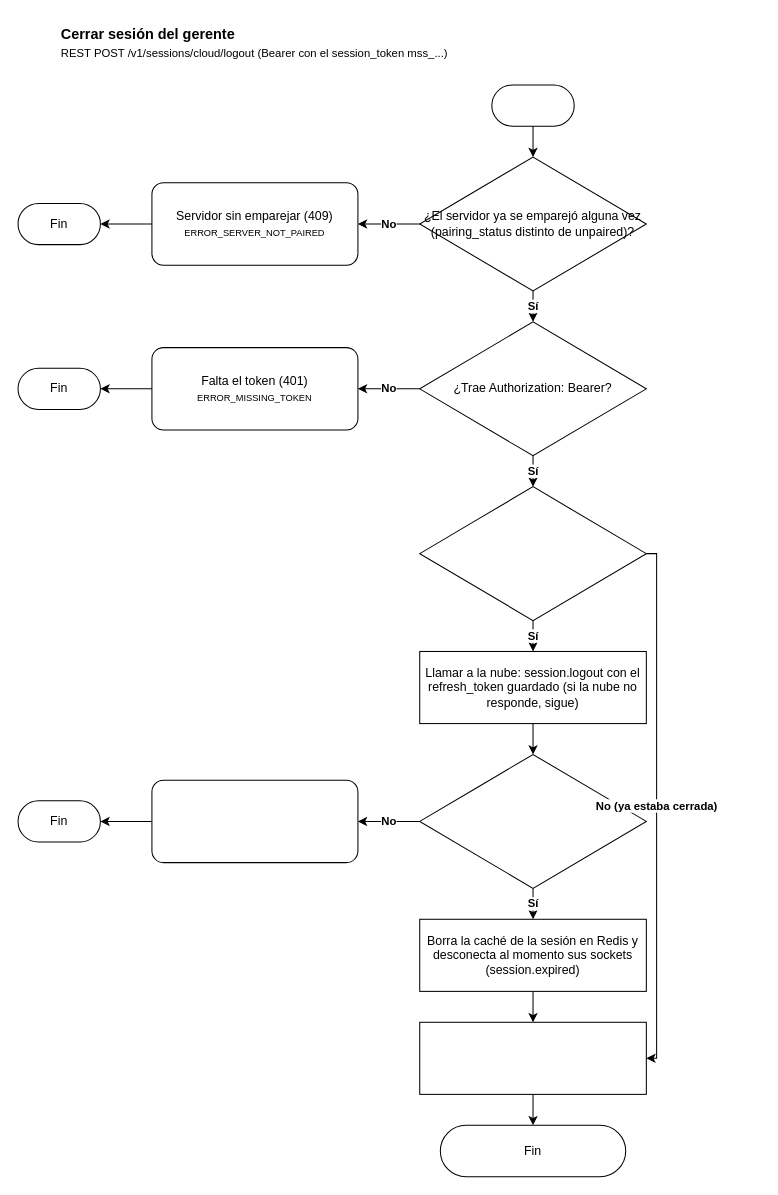
Image size: 778x1195. Some labels were removed from this diagram. The shapes that lost their labels are listed below. From the top down, each one's centre as x and y in pixels, then its label:
At [532,105]: "Inicio".
At [532,553]: "¿Existe la sesión del gerente?".
At [254,821]: "Error inesperado (500) ERROR_INTERNAL_ERROR".
At [532,820]: "¿Se borró la fila de manager_sessions?".
At [532,1057]: "Responder 200 con el mensaje SESSION_LOGGED_OUT".
